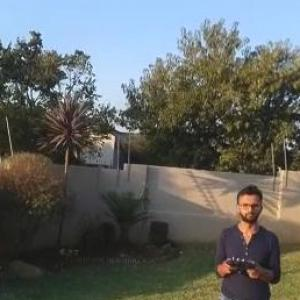follow: (208, 182, 284, 299)
